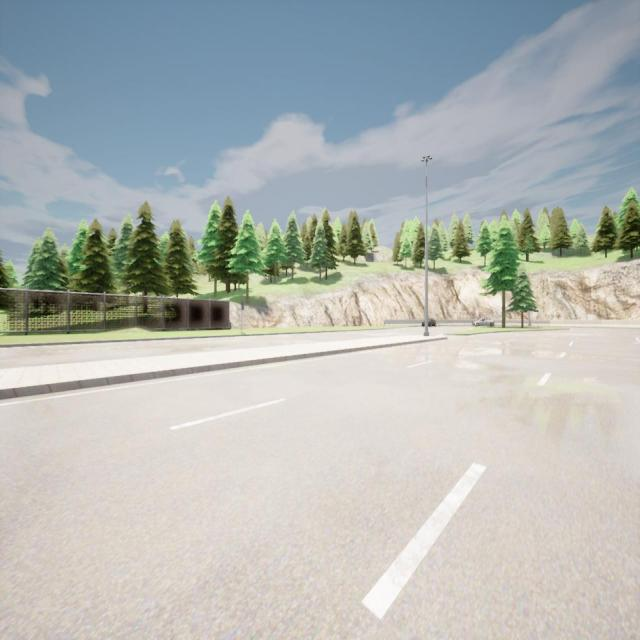Vehicle: (472, 317, 494, 327), (421, 318, 436, 327)
traffic_light: (242, 300, 244, 310)
